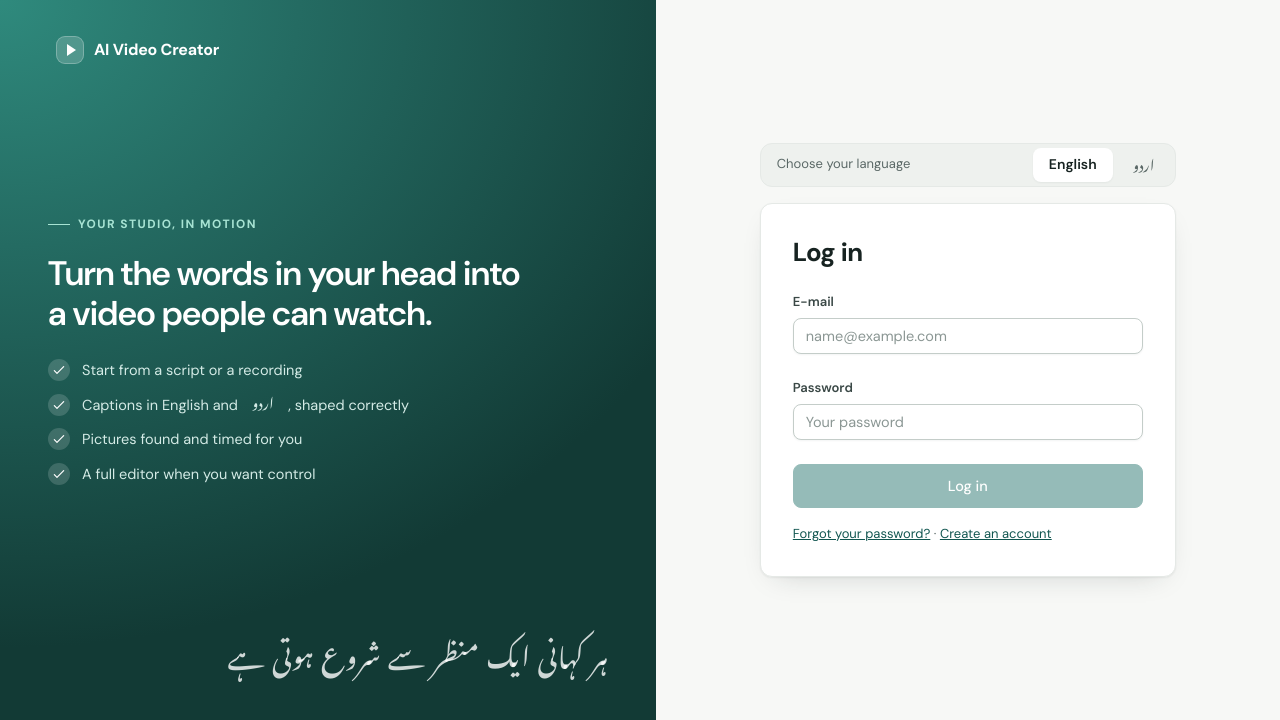
Test case: App and accounts › the language switch turns the sign-in pages into Urdu, right to left, and is remembered
expect the heading "Log in" is shown: met, box left=793, top=234, right=862, bottom=268
Click the button "اردو" at point(1144, 164), box left=1117, top=148, right=1171, bottom=182
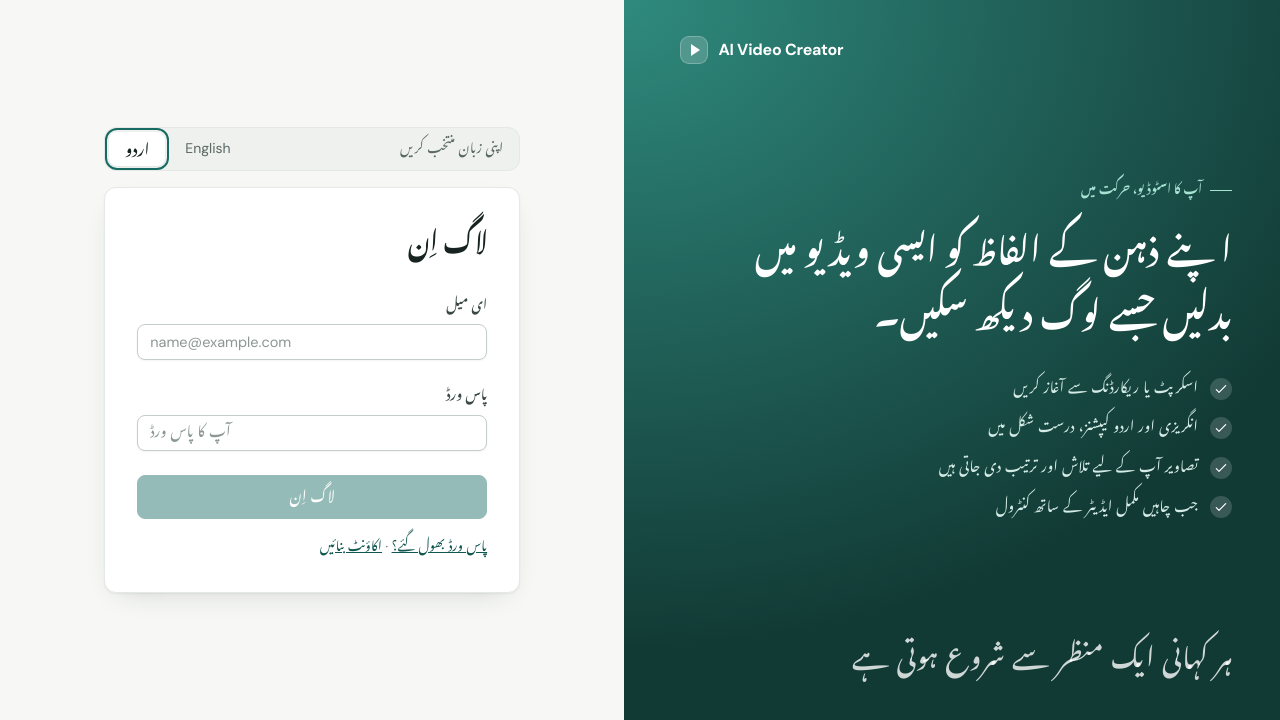
expect the field labelled "ای میل" is shown: met, box left=137, top=324, right=487, bottom=360
expect the heading "لاگ اِن" is shown: met, box left=408, top=227, right=487, bottom=261
expect the link "پاس ورڈ بھول گئے؟" is shown: met, box left=392, top=538, right=487, bottom=555
Click the button "English" at point(208, 149), box left=169, top=132, right=247, bottom=166
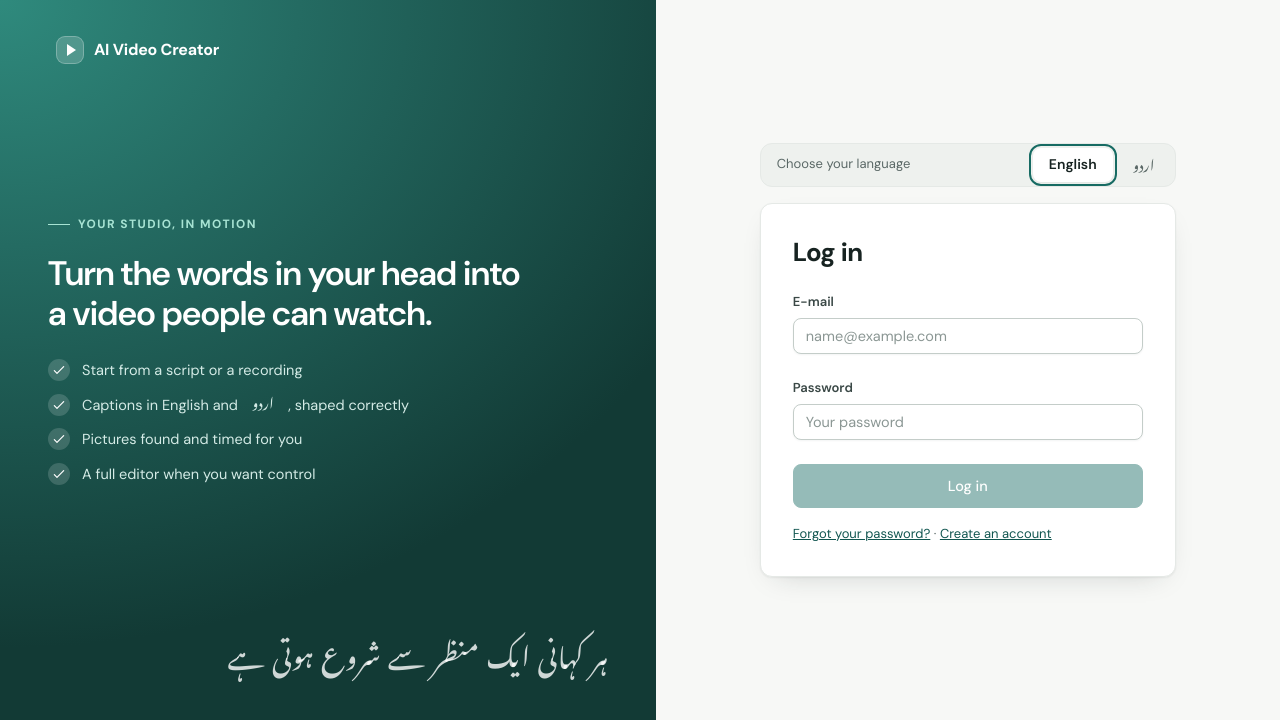
expect the heading "Log in" is shown: met, box left=793, top=234, right=862, bottom=268
